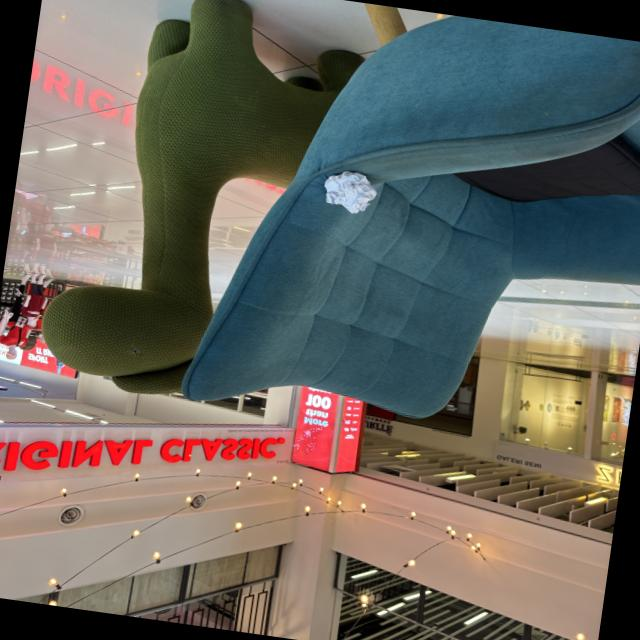crumpled_paper: (320, 167, 380, 220)
